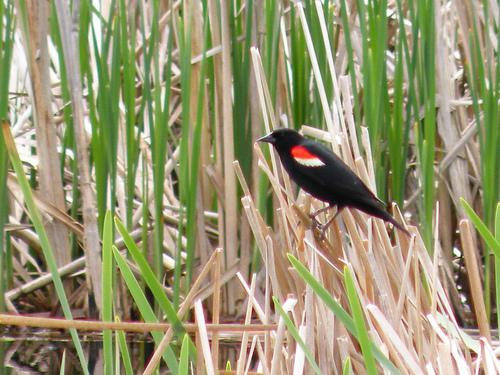010.Red_winged_Blackbird: (256, 126, 411, 234)
